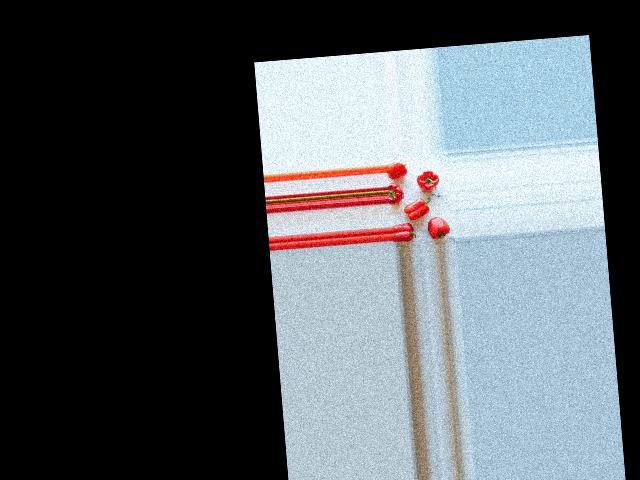bell_pepper: (387, 182, 405, 205)
